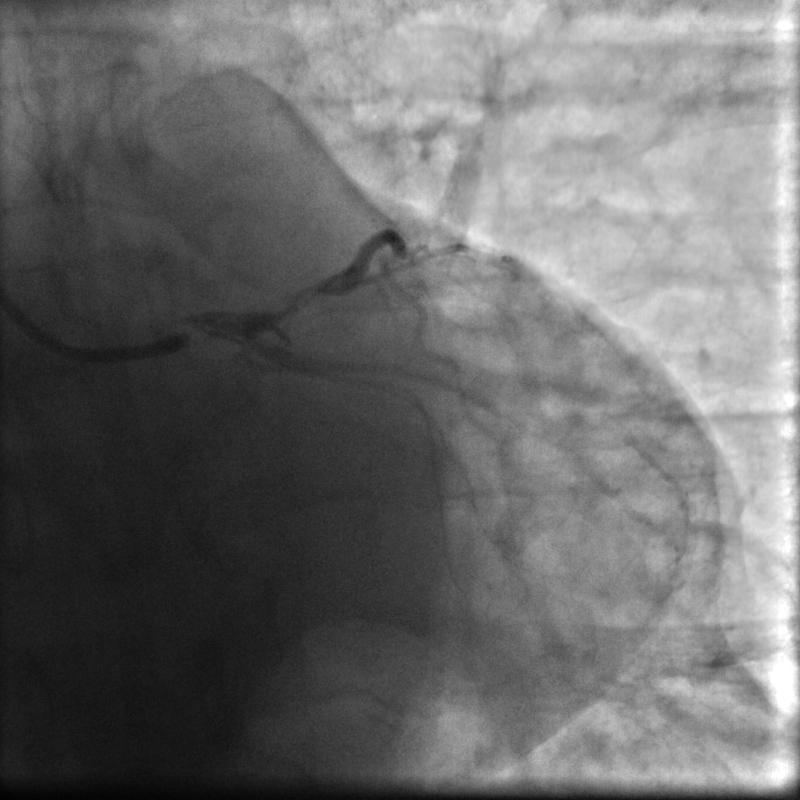Stenosis: (274, 277, 338, 315)
